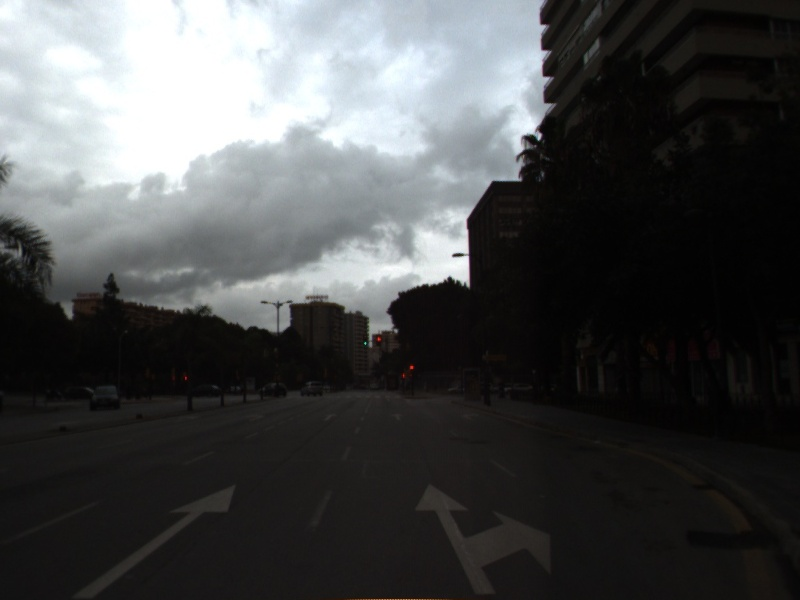LEFT: (243, 412, 266, 424)
RIGHT: (459, 411, 481, 423)
STRAIGHT: (70, 478, 242, 600), (321, 411, 340, 423), (389, 411, 406, 423)
STRAIGHT_RIGHT: (411, 479, 555, 597)
